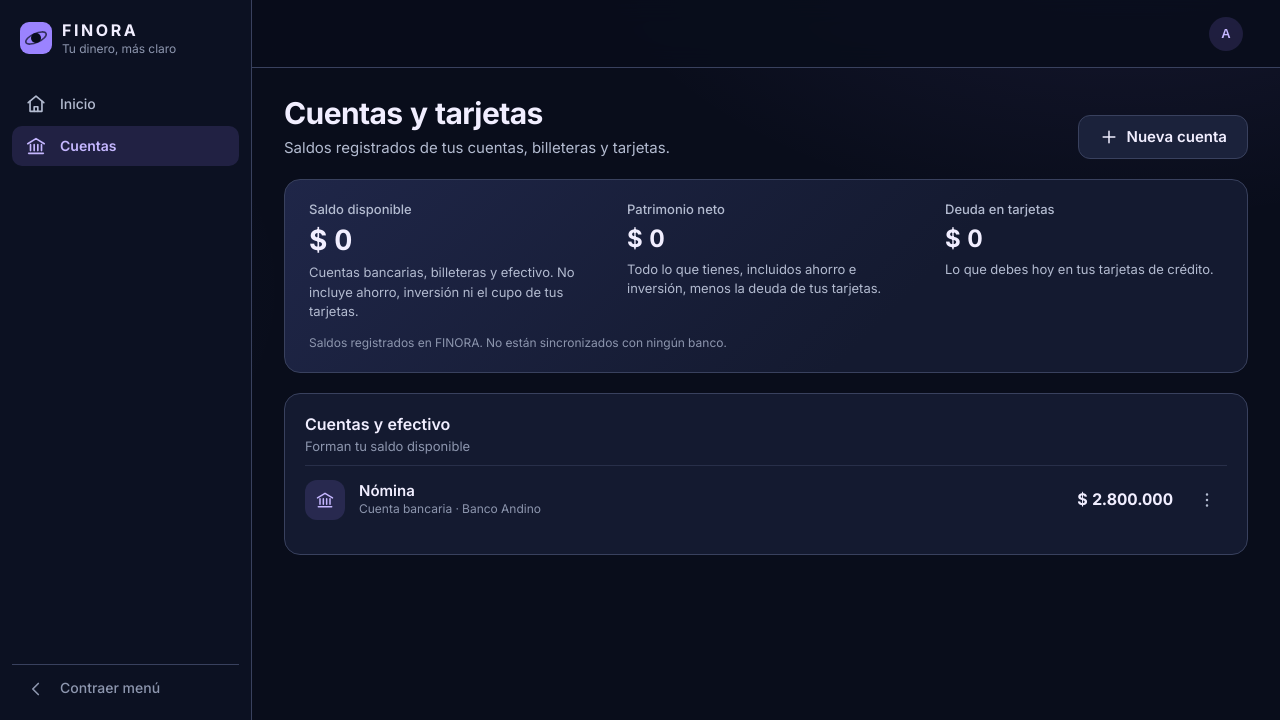
Scenario: editar cuenta (RF-ACC-05 y 06) › 404: cierra el diálogo, avisa y recarga
What coordinates should you click on to do the following:
click the button named "Acciones de Nómina"
I would click on:
 (1207, 500)
Its box is [1187,480,1227,520].
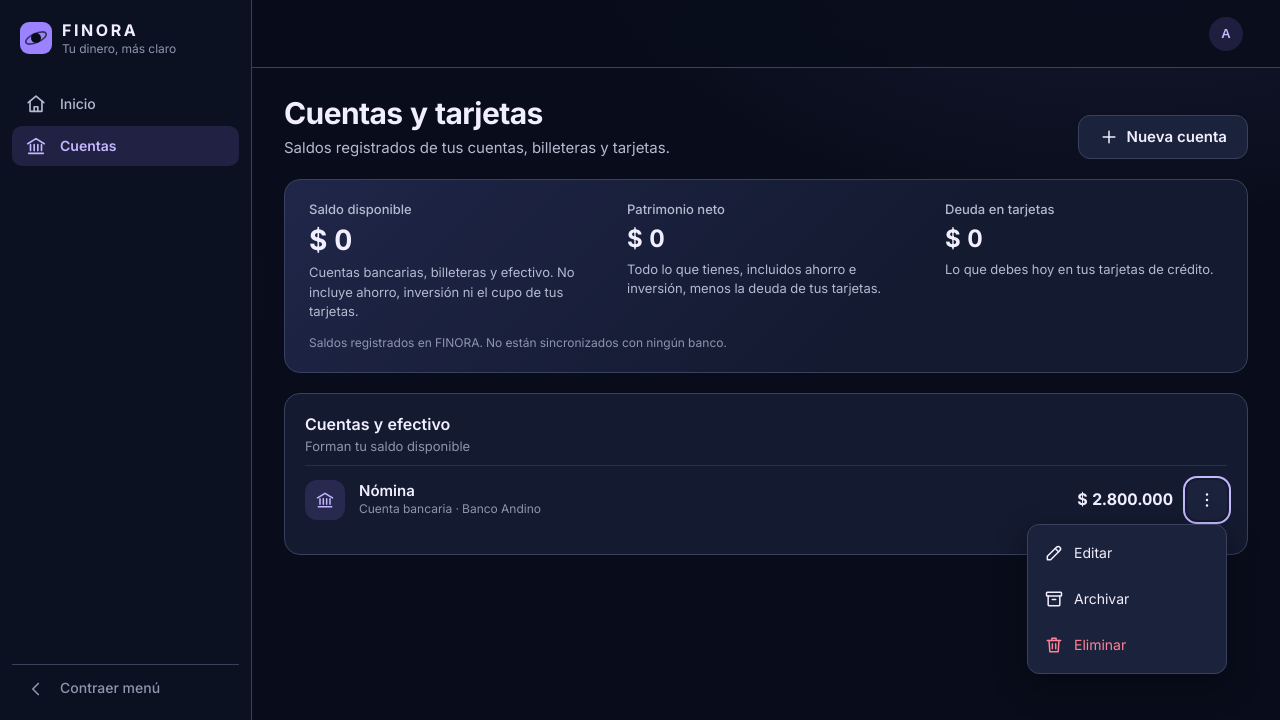
What coordinates should you click on to do the following:
click the button "Editar"
I would click on:
 (1127, 553)
Its box is [1034,531,1220,575].
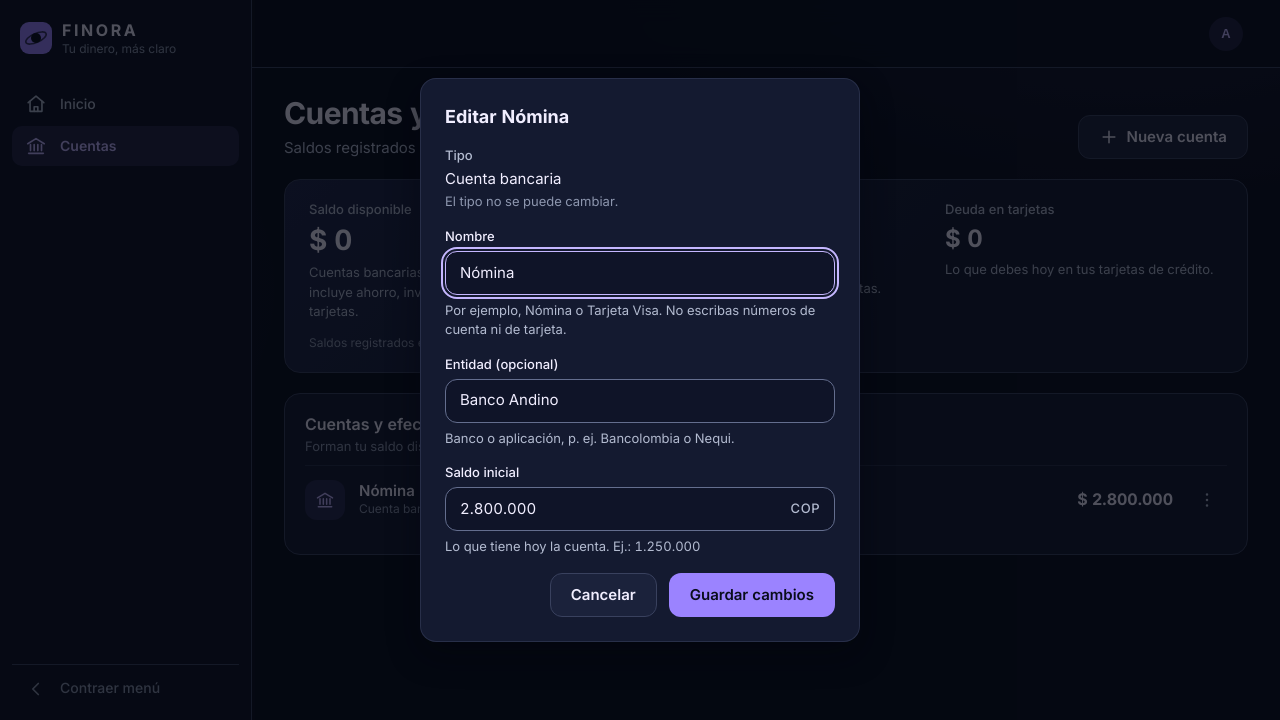
What coordinates should you click on to do the following:
click the button "Guardar cambios"
I would click on:
 (752, 595)
Its box is [669,573,835,617].
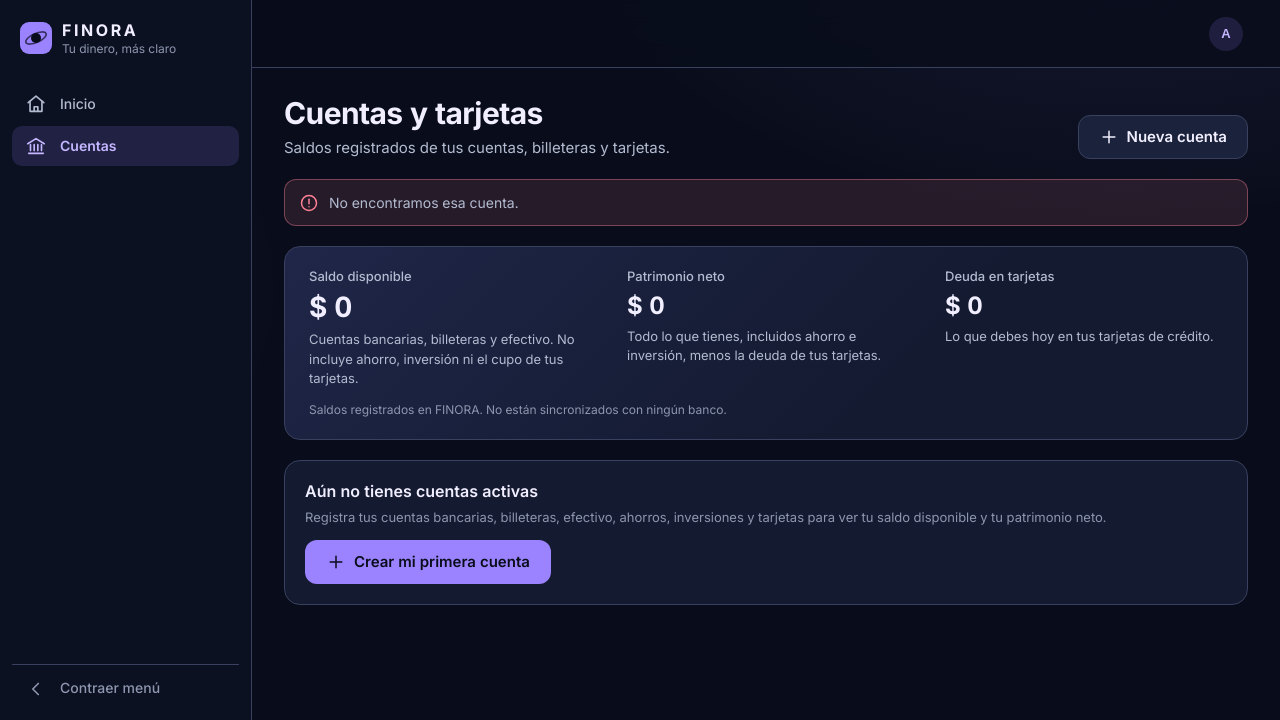
Check: the message reads "No encontramos esa cuenta.", box [329,194,518,211]
Check: the dialog is gone
Check: the heading "Aún no tienes cuentas activas" is shown, box [305,481,538,501]
